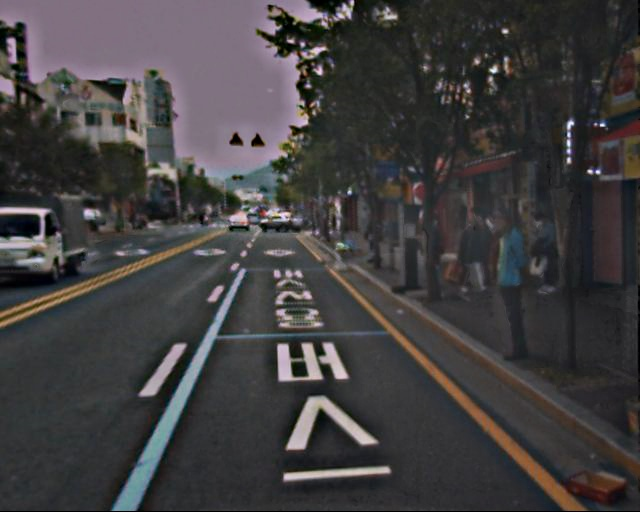person: (474, 209, 543, 359), (453, 217, 490, 295), (523, 213, 559, 290), (363, 215, 380, 254)
